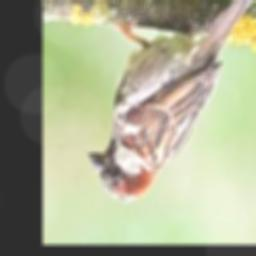Sparrow: (86, 0, 256, 202)
